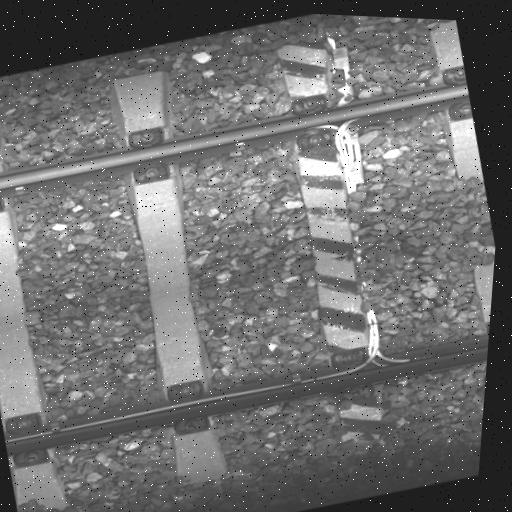clip: (282, 90, 341, 153), (121, 124, 178, 188), (325, 345, 384, 406), (165, 376, 221, 439), (3, 408, 58, 469), (438, 64, 477, 123), (0, 157, 13, 220)
sleeper: (243, 32, 427, 456), (82, 69, 263, 490), (397, 19, 512, 420), (0, 101, 104, 512)
